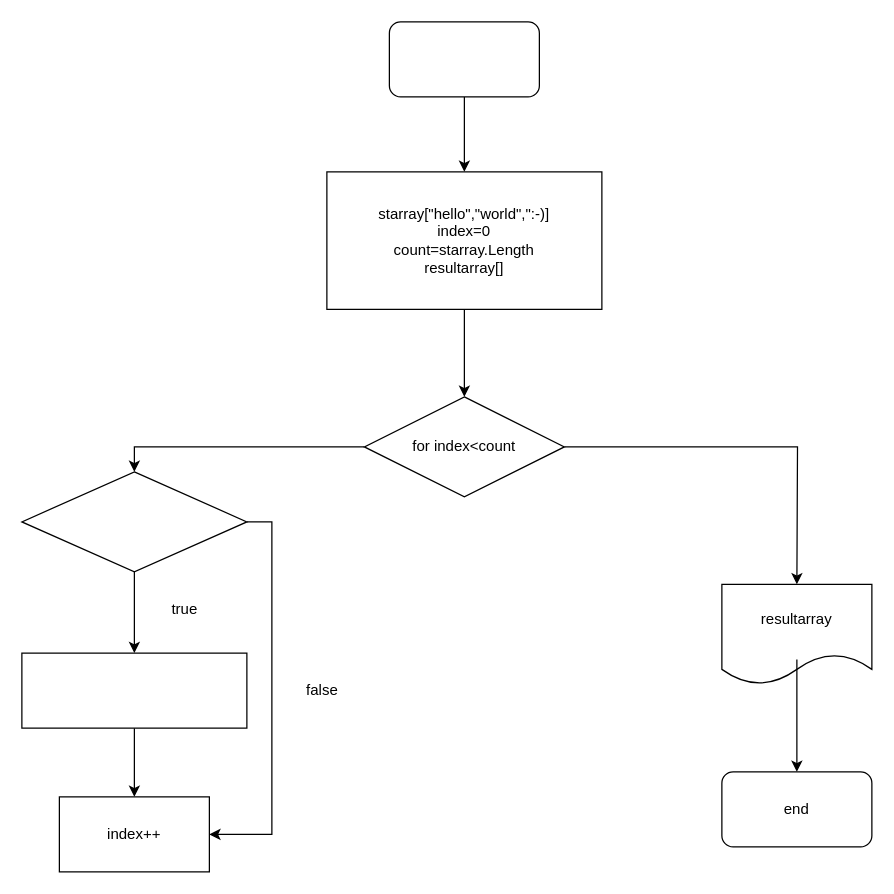
Image size: 894x894. Some labels were removed from this diagram. Here are the shapes that lost their labels. From the top down, the box of each, then its label:
(388, 21, 539, 97): Start
(21, 471, 247, 572): if starray[index].length<=3
(21, 652, 247, 728): resultarray[]+=strarray[index]
